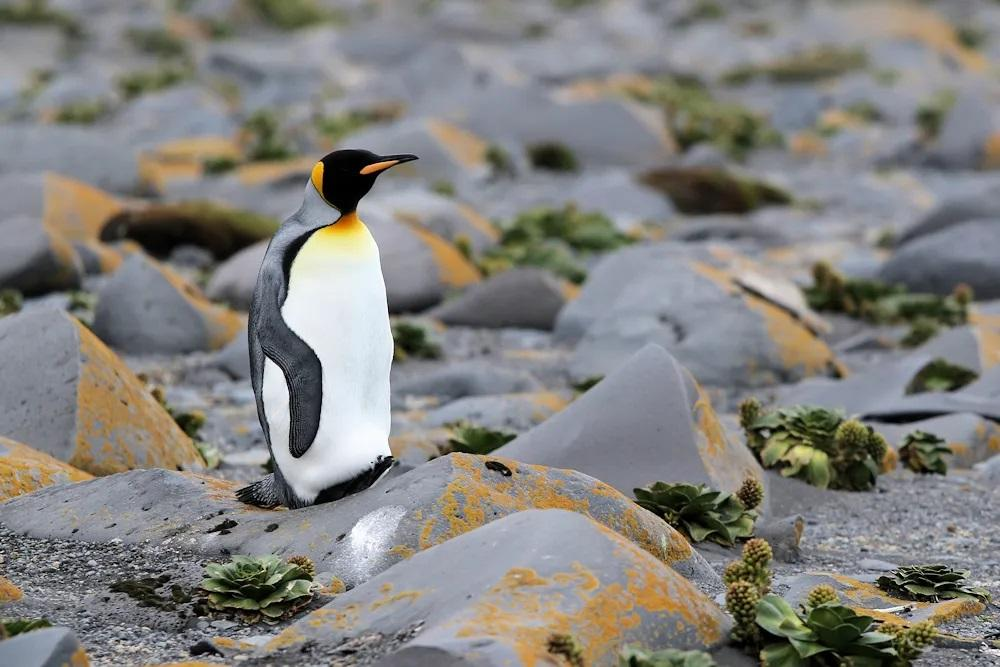king: (229, 127, 484, 533)
